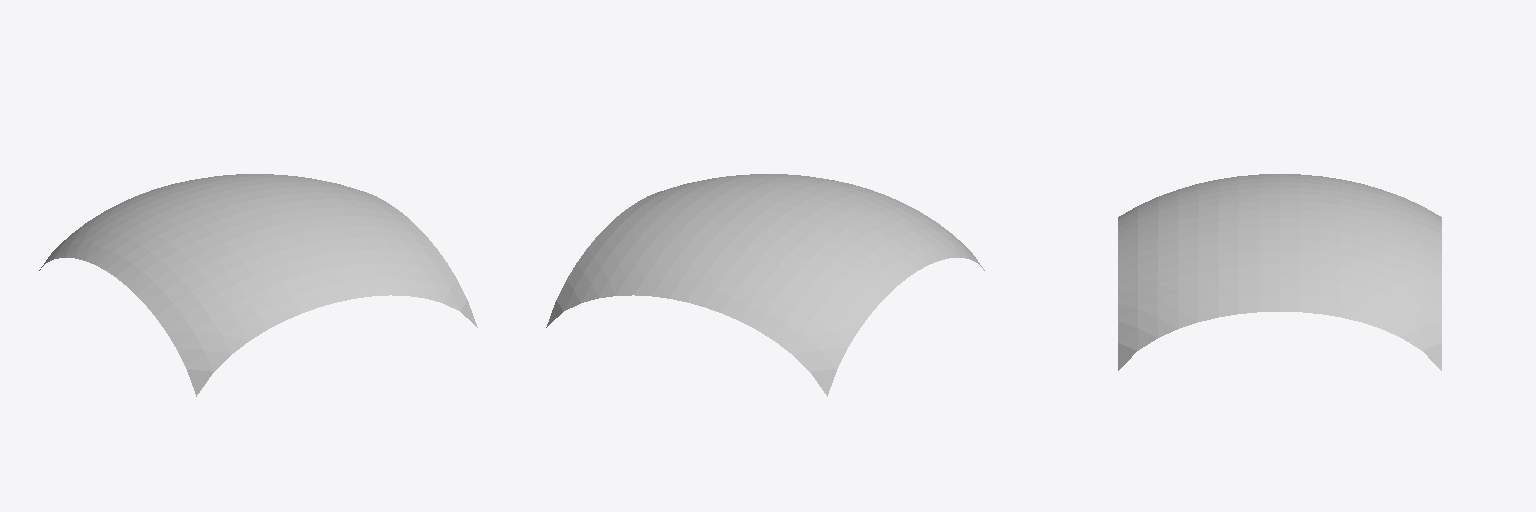
Rendered from CurvedSurface_flat.obj.
3 renders of one model, left to right at view 1: azimuth 30°, elevation 25°; view 2: azimuth 150°, elevation 25°; view 3: azimuth 270°, elevation 25°, orthographic.
Visible parts, largest first — view 1: Plane; view 2: Plane; view 3: Plane.
Part boxes in pixels (left/top/right/bottom): Plane: left=39, top=174, right=477, bottom=396; Plane: left=546, top=174, right=984, bottom=396; Plane: left=1118, top=174, right=1441, bottom=370.
Bounding box in the file's own units: 2 × 0.6392 × 2.